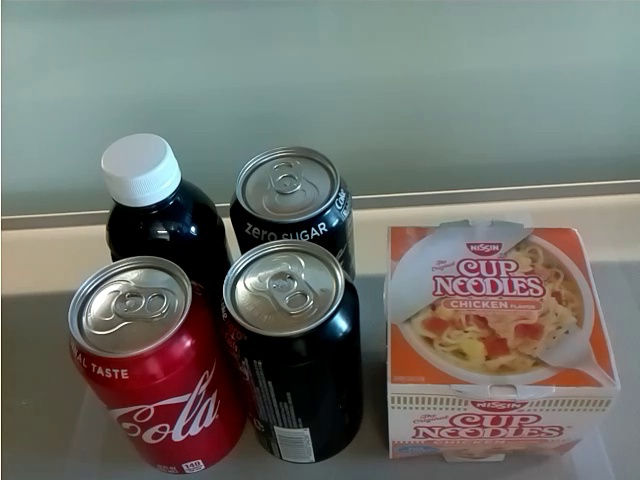cocacola: (68, 253, 245, 479), (220, 239, 364, 463), (232, 146, 357, 285)
juice: (94, 131, 231, 281)
noodles: (384, 216, 620, 467)
